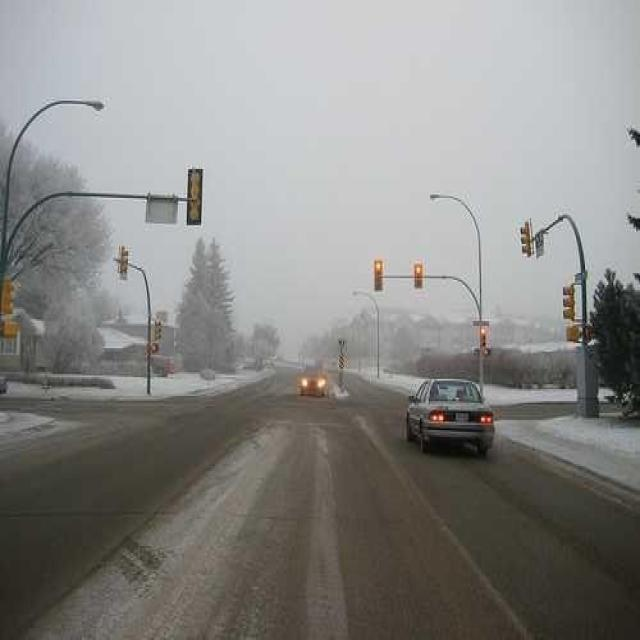Traffic Light -Red-: (374, 259, 385, 292), (415, 263, 425, 290), (480, 326, 489, 351)
